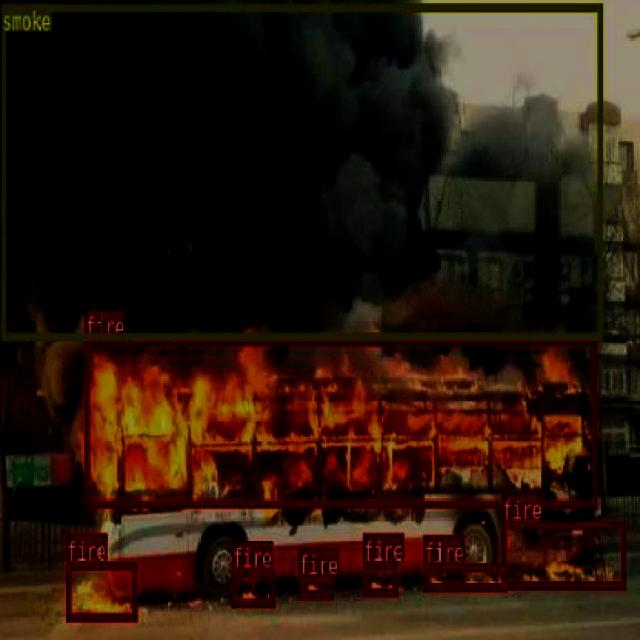fire: (82, 336, 596, 507), (501, 519, 624, 587), (66, 560, 136, 620), (423, 562, 505, 590), (231, 566, 274, 606), (362, 560, 398, 594), (296, 574, 332, 597)
smoke: (0, 2, 602, 340)
